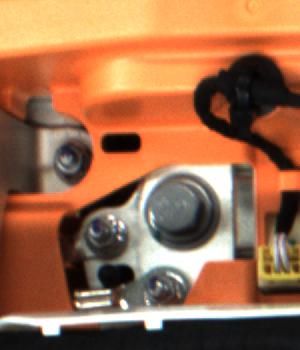nut_b: (139, 176, 224, 246)
screw_s: (83, 213, 123, 252), (50, 143, 84, 179), (150, 269, 183, 306)
